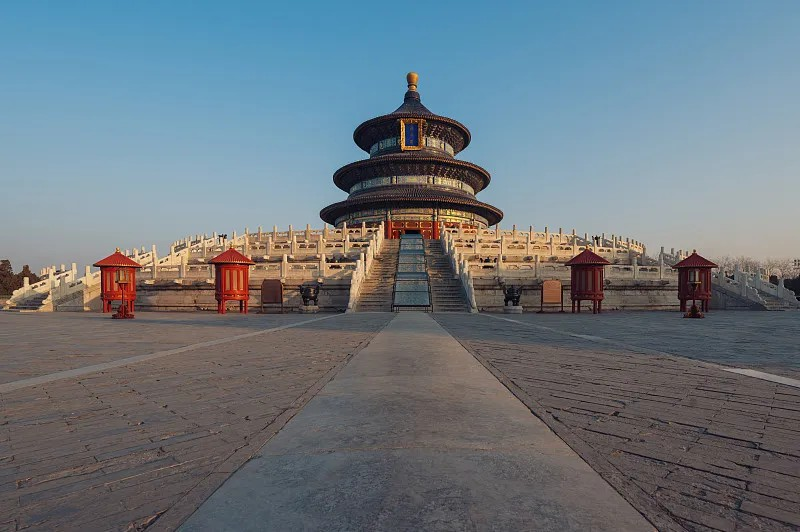Heaven: (320, 73, 504, 239)
